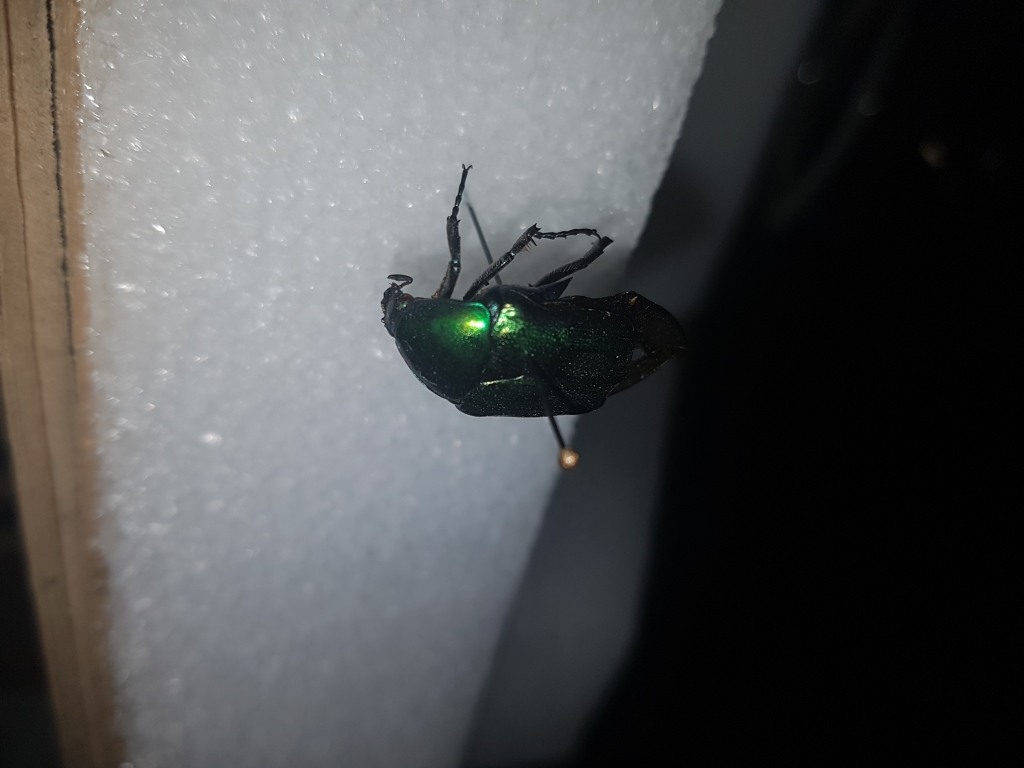Protaetia_angustata_angustata: (382, 162, 661, 426)
